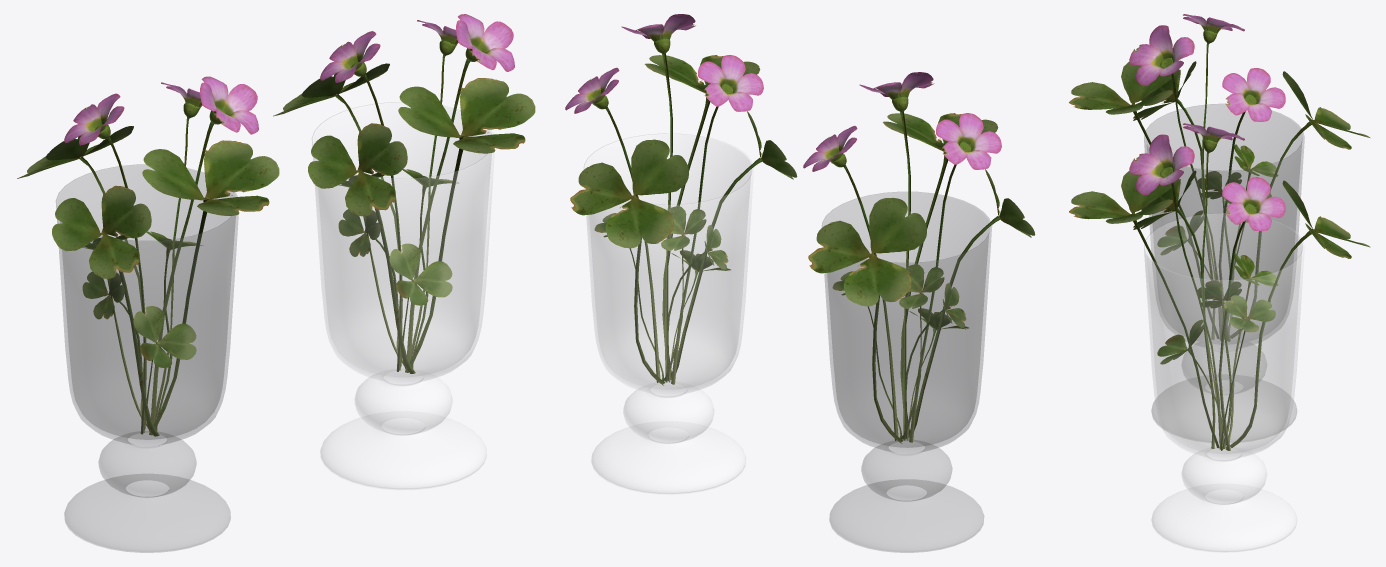
Rendered from GlassVaseFlowers.glb.
3 views of the same model, side by side, from view 1: azimuth 30°, elevation 25°; view 2: azimuth 150°, elevation 25°; view 3: azimuth 270°, elevation 25° (orthographic). The views are drawn at different scales.
Visible parts, largest first — view 1: Flowers1, GlassAlpha, GlassTransmission; view 2: Flowers1, GlassAlpha, GlassTransmission; view 3: GlassTransmission, Flowers1, GlassAlpha.
Part boxes in pixels (x1,y1,x2,y2): Flowers1: (17,14,535,436); GlassAlpha: (56,164,238,552); GlassTransmission: (312,102,494,490); Flowers1: (565,14,1035,443); GlassAlpha: (822,192,991,552); GlassTransmission: (584,133,753,494); GlassTransmission: (1144,213,1304,552); Flowers1: (1069,14,1370,450); GlassAlpha: (1144,104,1304,442).
Size of the model in its own units: 0.2173 by 0.2032 by 0.1425.
Materials: 3 (1 with a texture image).
